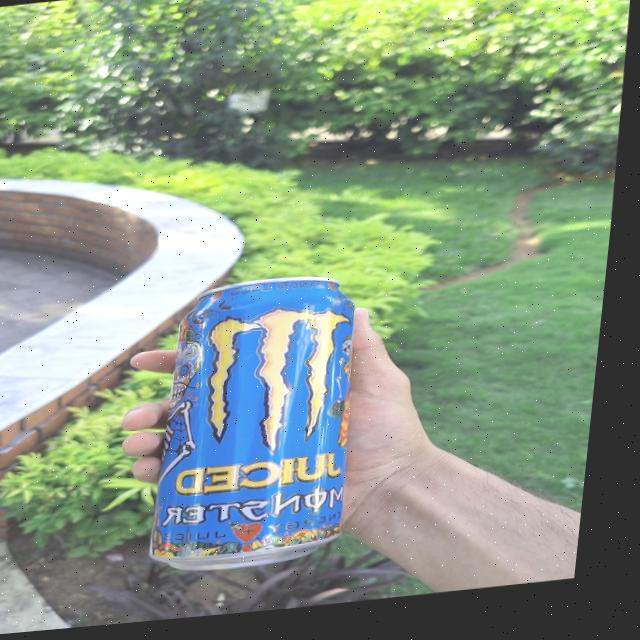Monster Mango Loco: (150, 274, 375, 573)
